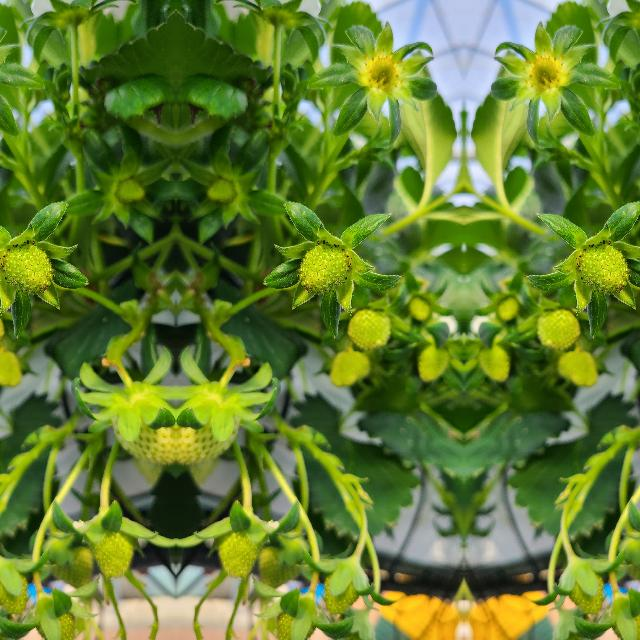Health_25: (297, 243, 349, 294), (1, 243, 53, 294), (577, 243, 629, 294)
